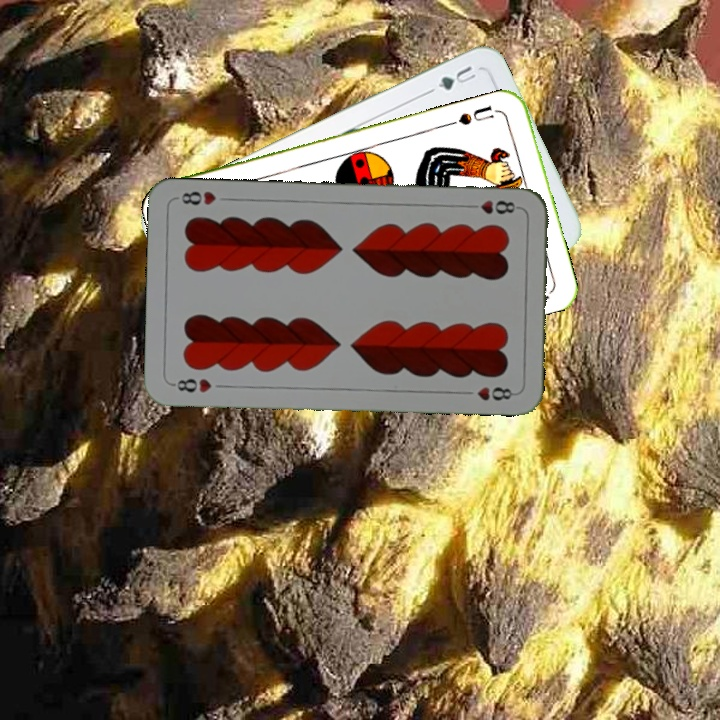GU: (433, 61, 479, 93)
H8: (463, 196, 522, 217), (168, 374, 214, 395)
SU: (445, 101, 496, 128)
